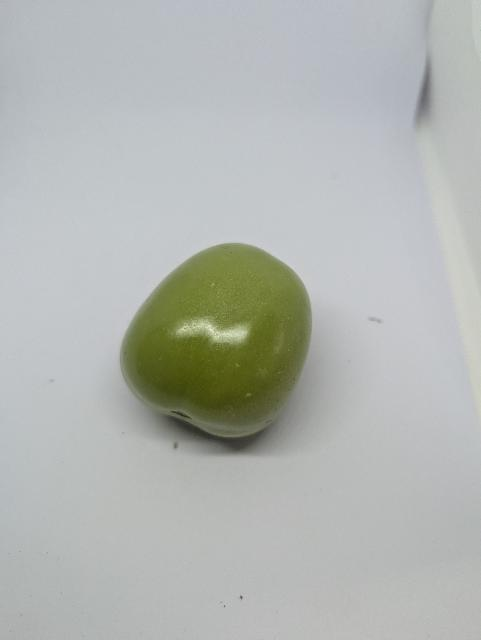green: (106, 230, 323, 455)
